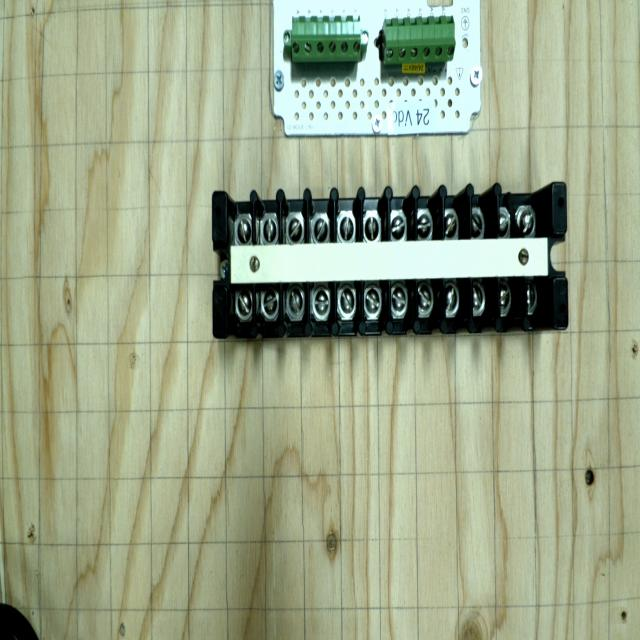Flathead_Block: (209, 184, 570, 337)
Terminal_1: (382, 15, 456, 65), (292, 15, 360, 57)
